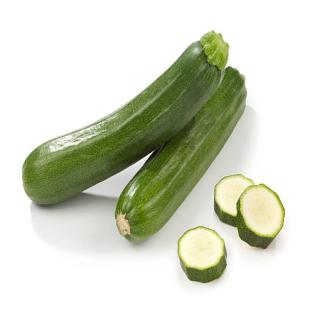Zucchini: (23, 33, 228, 204), (116, 68, 246, 241), (237, 184, 284, 248), (178, 227, 226, 282), (215, 174, 254, 226)
